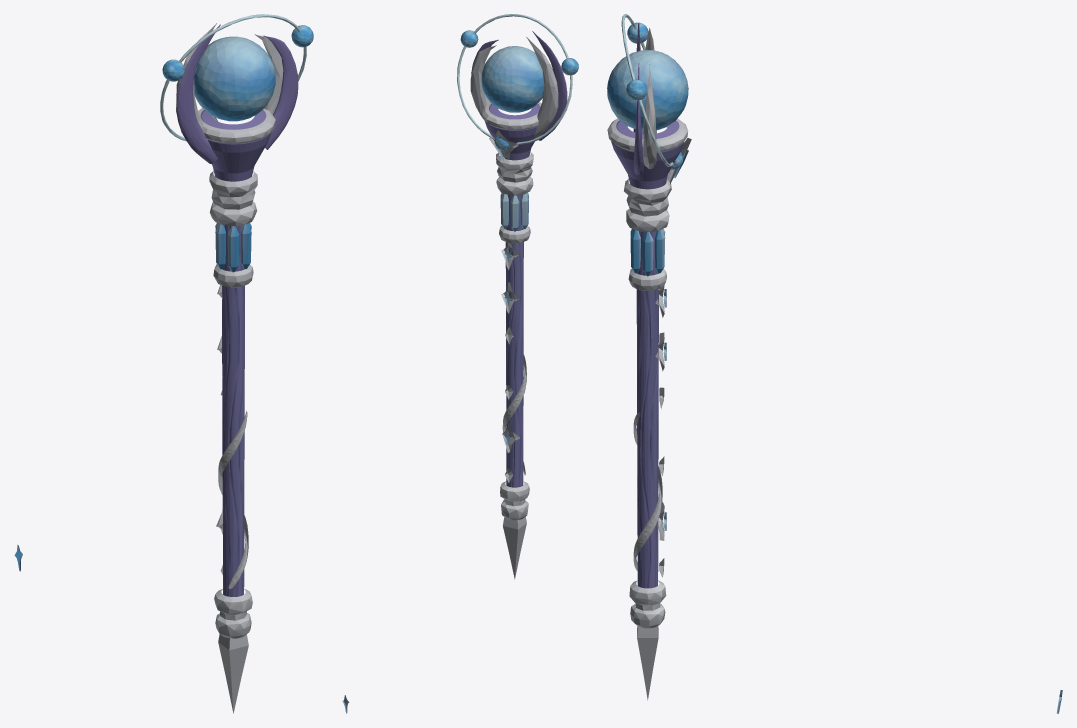
Rendered from arcane_staff_roblox.glb.
The picture shows the model from 3 angles, left to right: view 1: azimuth 30°, elevation 25°; view 2: azimuth 150°, elevation 25°; view 3: azimuth 270°, elevation 25°; orthographic projection. The views are drawn at different scales.
Visible parts, largest first — view 1: Staff, Trim, Orb, Orbits, Gems; view 2: Trim, Staff, Orb, Orbits, Gems; view 3: Staff, Trim, Orb, Gems, Orbits.
Boxes of the visible parts, x1,y1,x2,y2 form: Staff: (176,24,298,596); Trim: (176,23,283,713); Orb: (194,36,275,121); Orbits: (160,14,313,141); Gems: (14,223,251,571); Trim: (470,37,558,579); Staff: (471,31,567,487); Orb: (481,46,544,112); Orbits: (457,14,578,150); Gems: (342,140,528,713); Staff: (611,23,684,588); Trim: (607,27,691,700); Orb: (607,50,688,130); Gems: (630,150,1062,713); Orbits: (621,14,683,169).
Size of the model in its own units: 0.2915 by 1.36 by 0.811.
